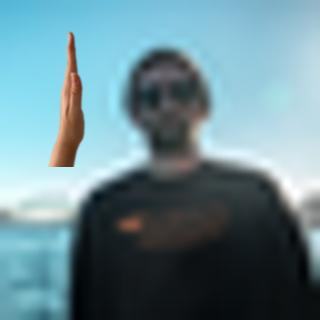Right: (49, 22, 94, 167)
